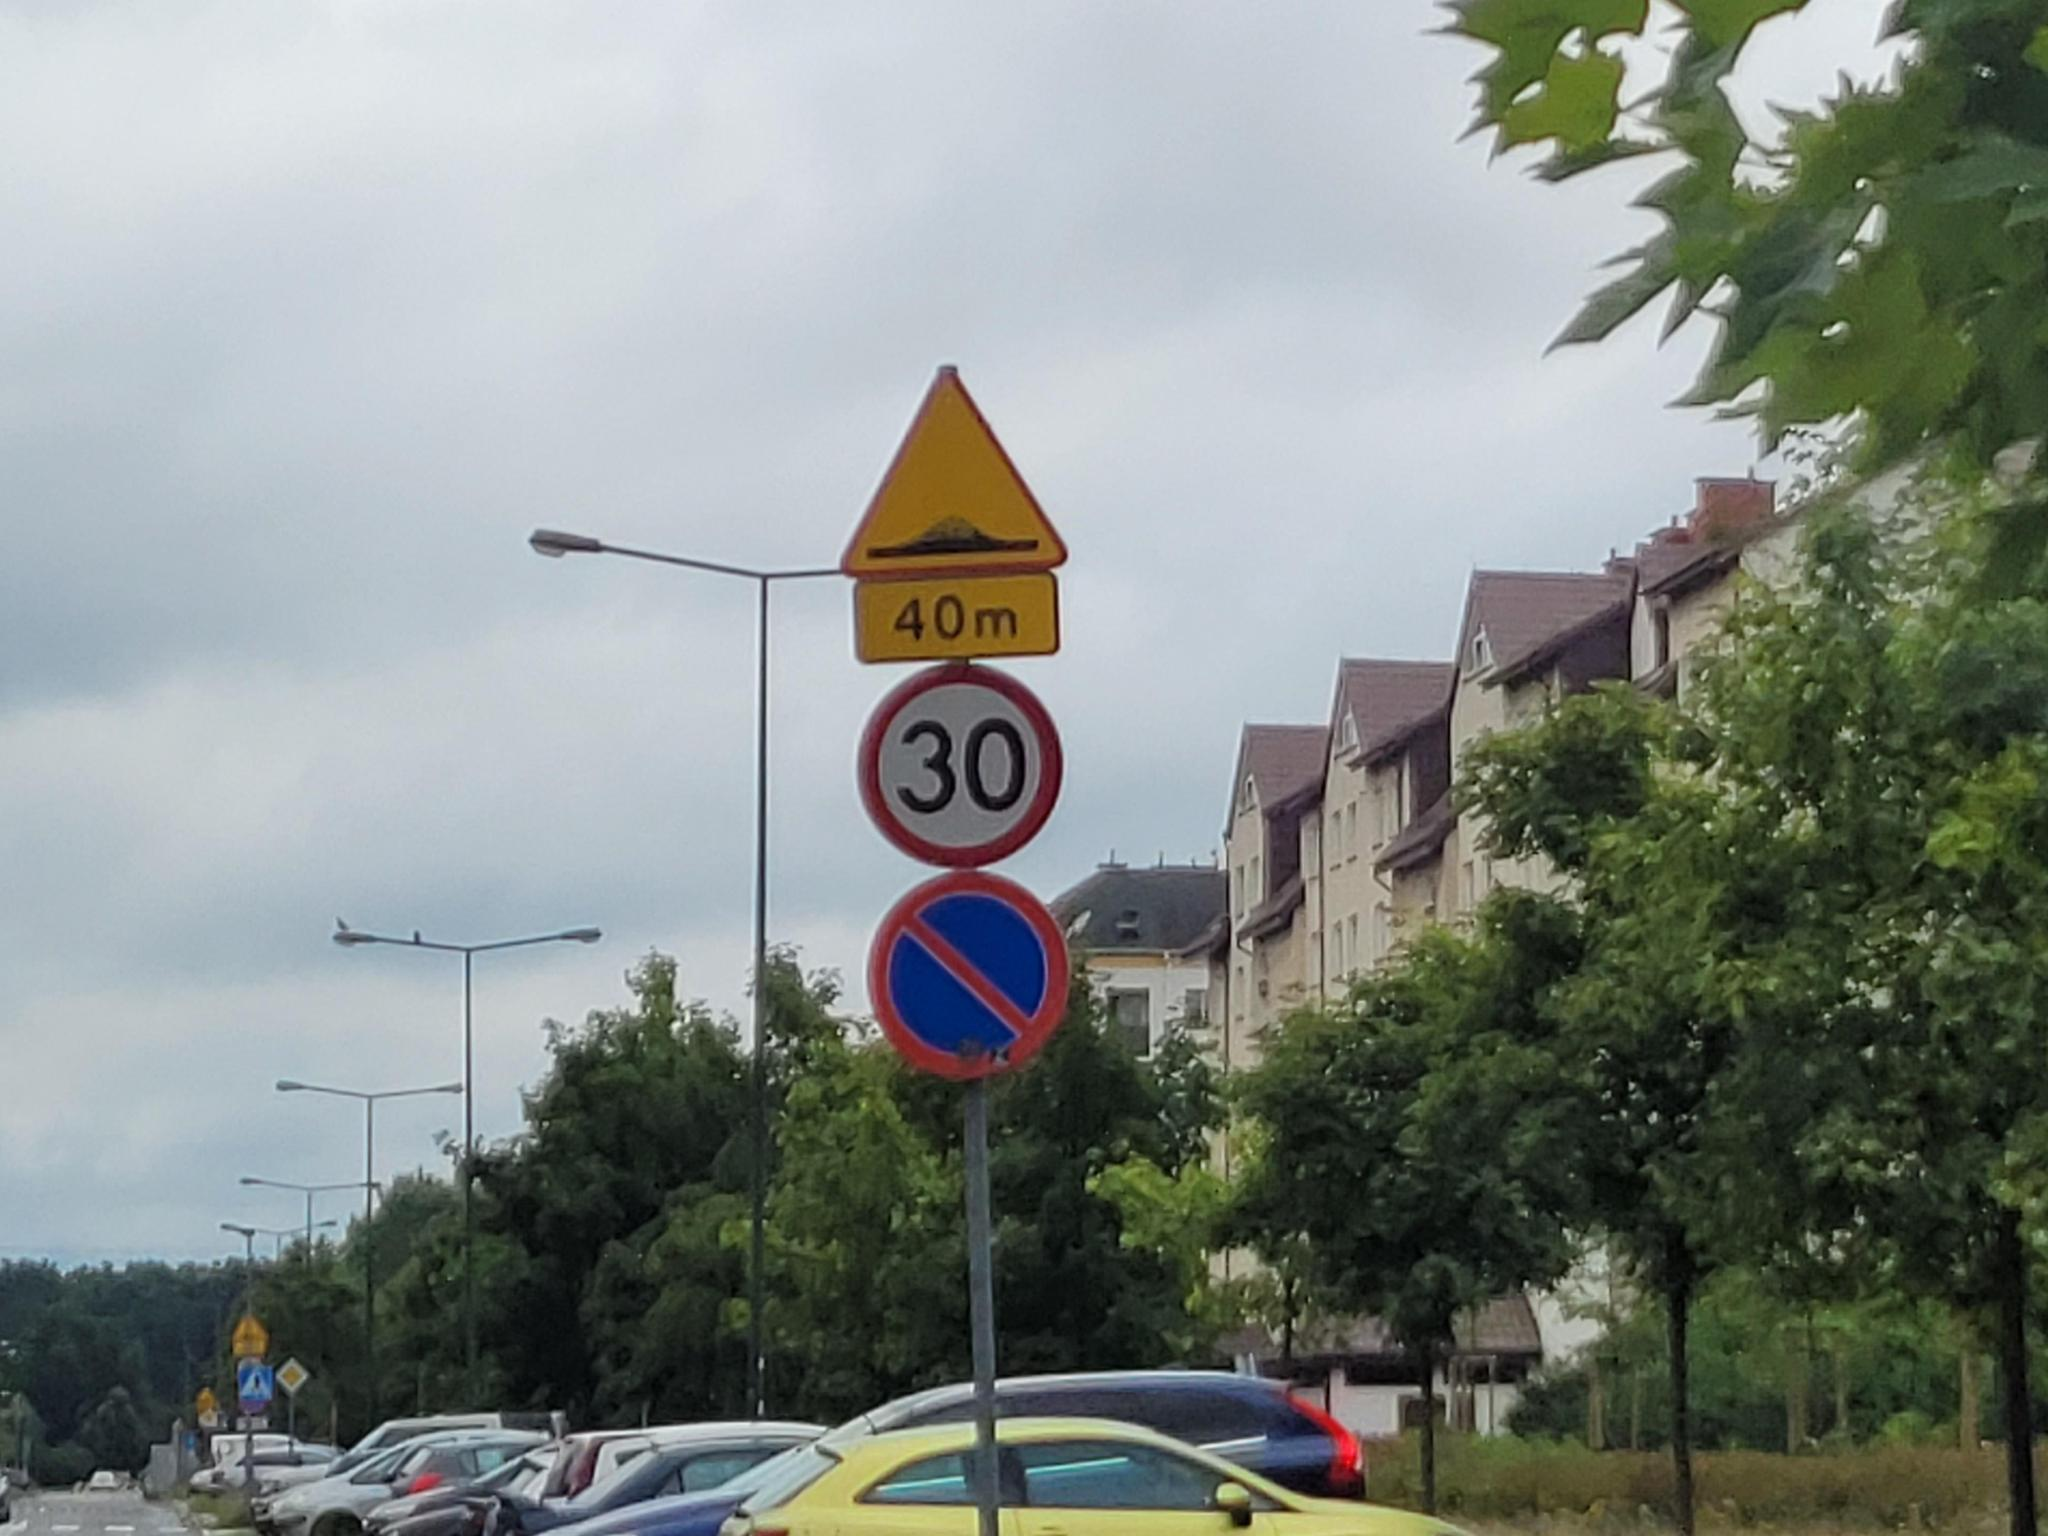information: (277, 1357, 311, 1394), (239, 1367, 273, 1399)
other: (856, 582, 1058, 660)
prohibitory: (866, 871, 1071, 1084), (855, 665, 1066, 870)
warning: (839, 366, 1069, 576)
